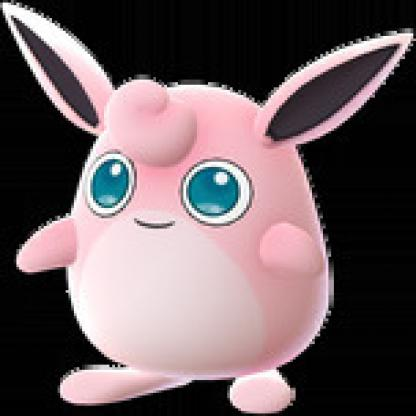Wigglytuff: (1, 1, 414, 411)
